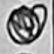correct: (6, 0, 48, 47)
